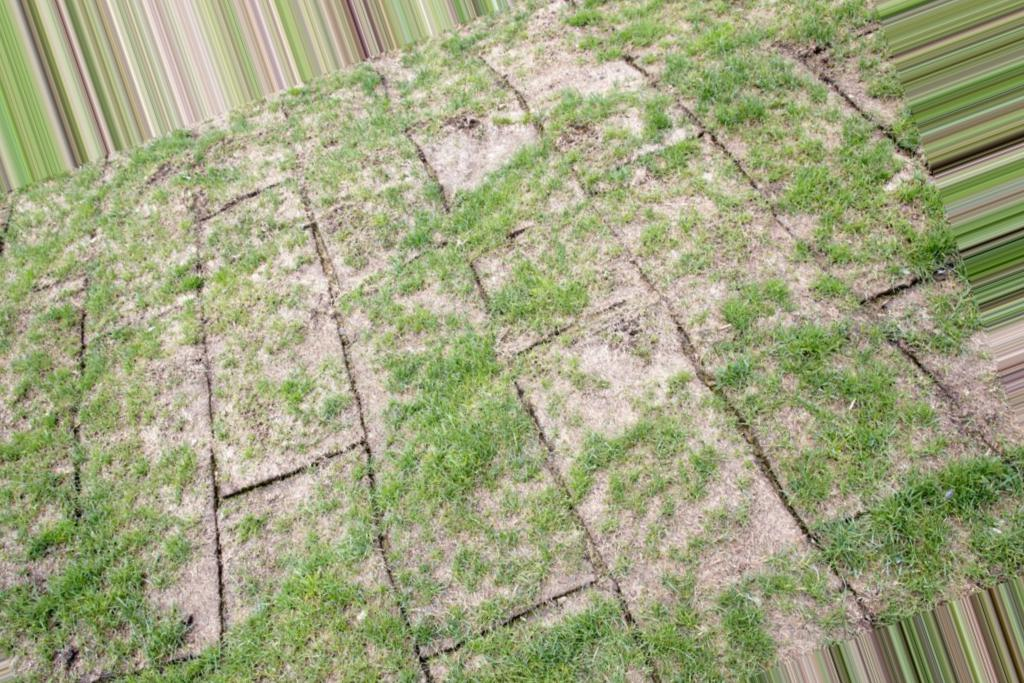patch: (511, 345, 684, 434), (606, 252, 719, 342), (182, 366, 239, 488), (516, 37, 614, 97), (437, 134, 512, 180)
